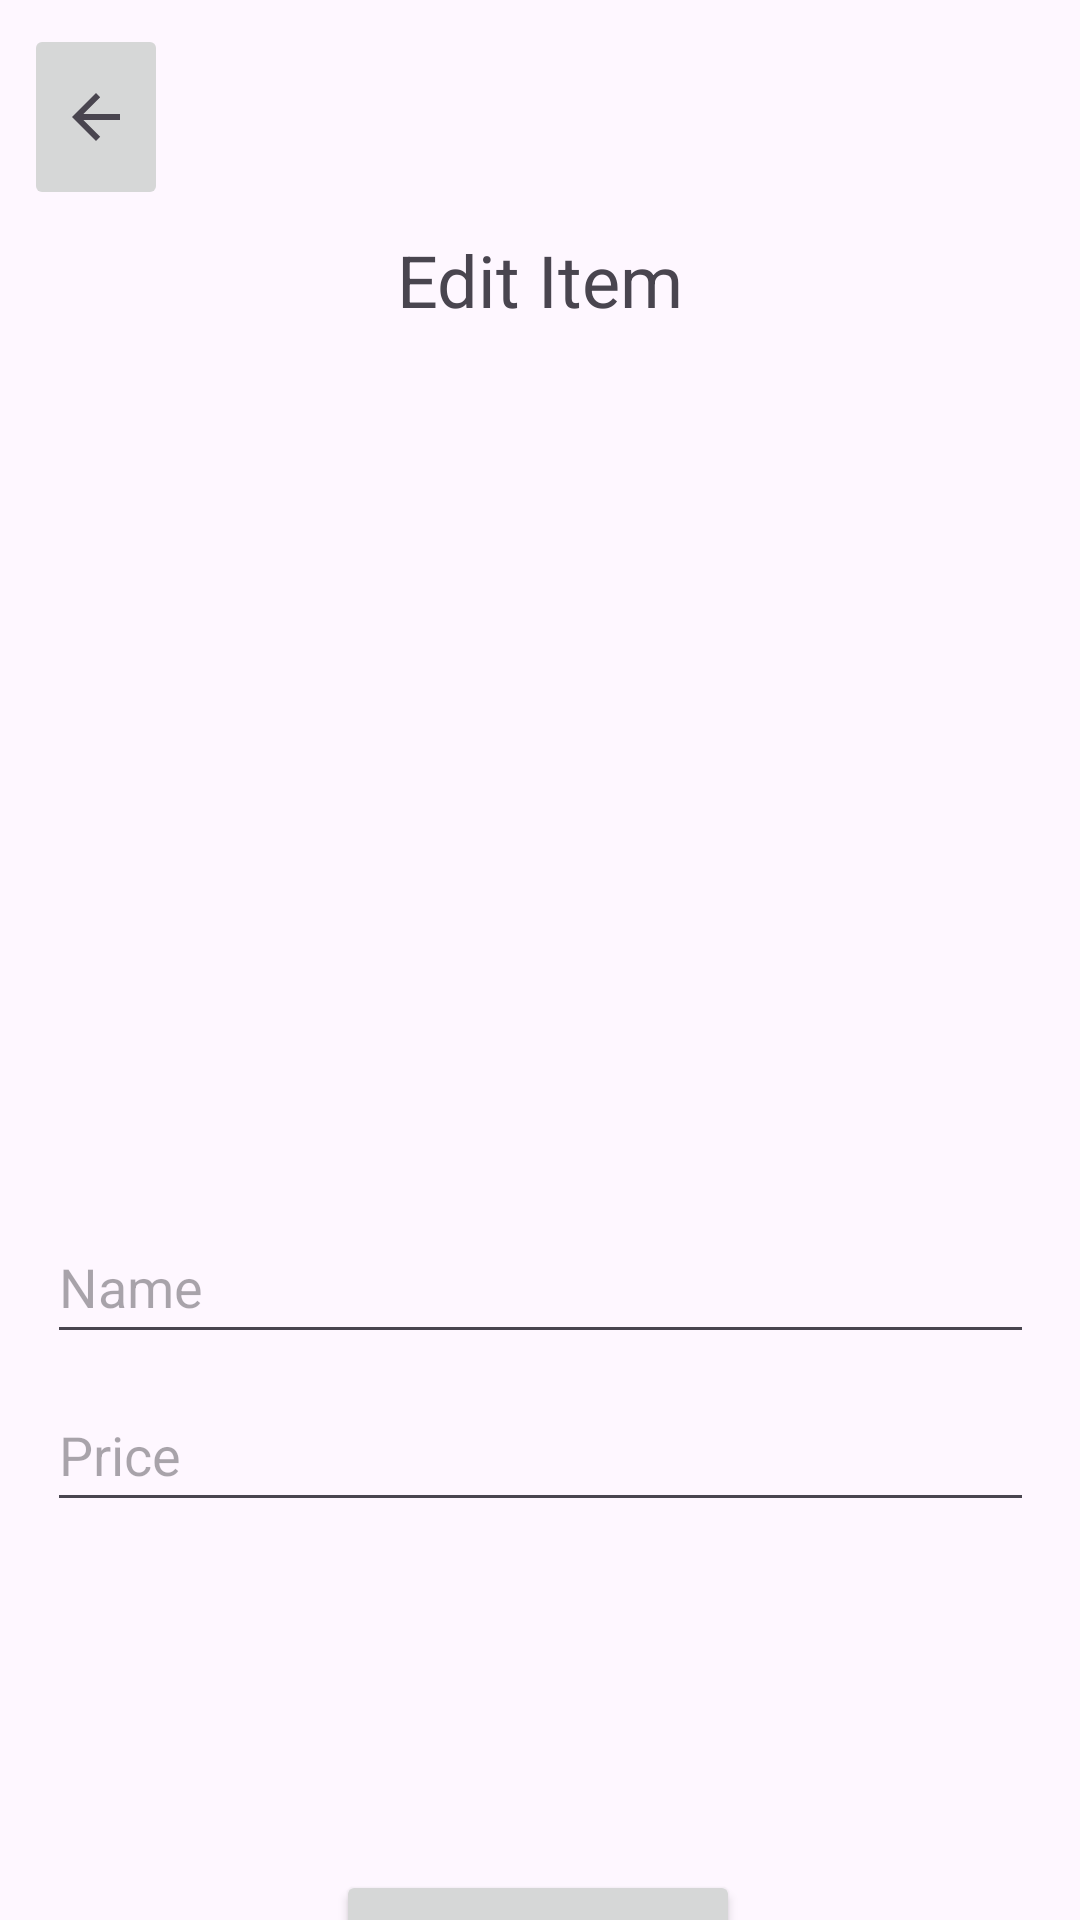

Icons on this 1080×1920 Android screen, each with the point to tap as (x,y):
Back to space: (96,117)
